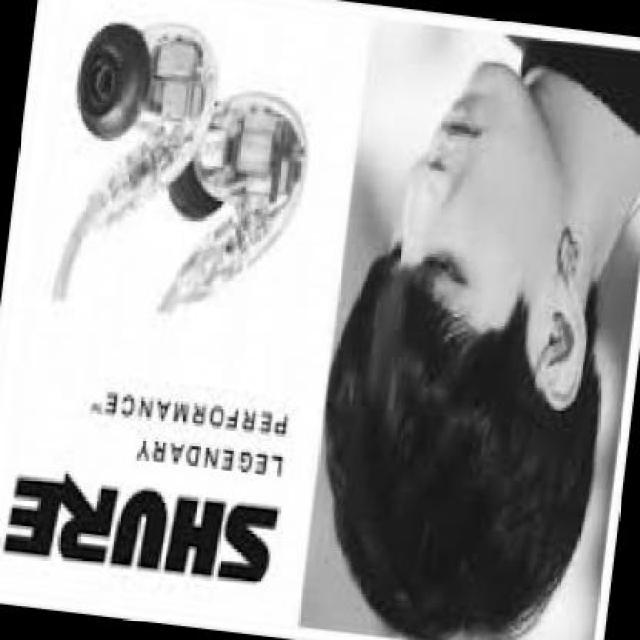earphone: (534, 301, 580, 355)
